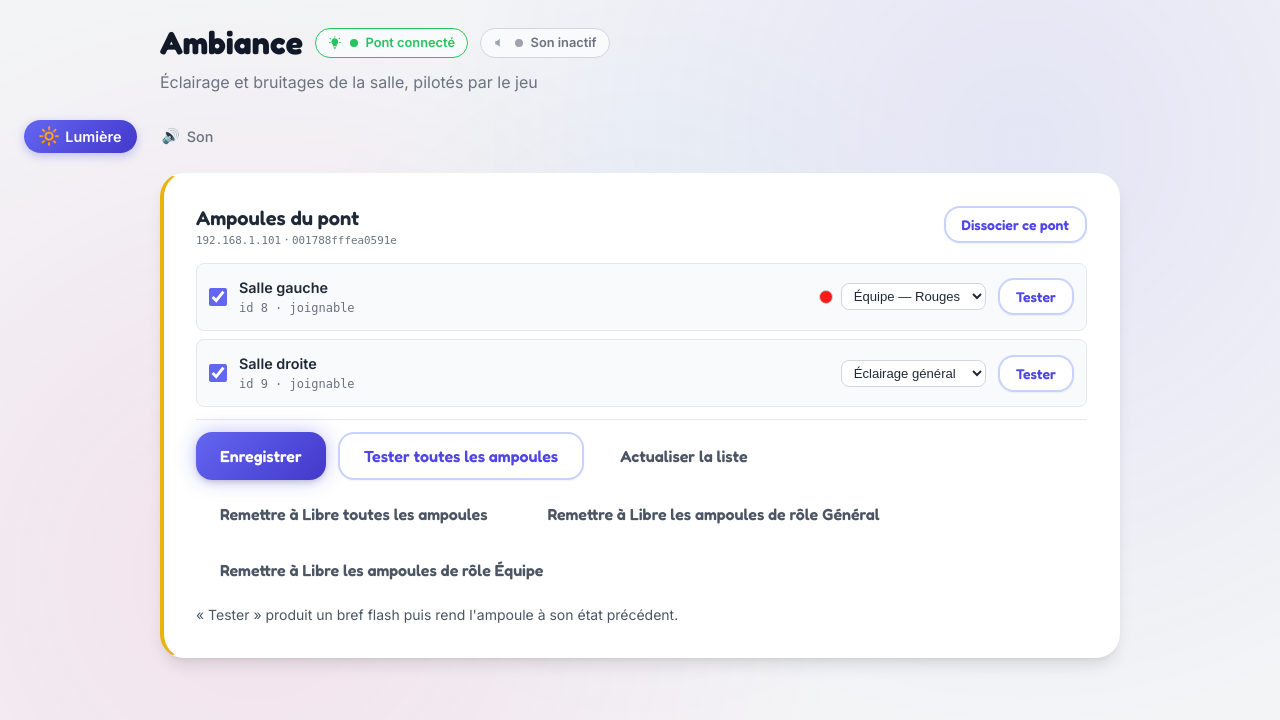
Test case: AmbiancePage — point 3 : 3 boutons « Remettre à Libre » à portées disjointes › « Équipe » confirmé : retire UNIQUEMENT l'ampoule d'équipe (devient libre), l'ampoule générale garde EXACTEMENT son rôle
The image size is (1280, 720).
Expected: the text "Salle gauche" is shown, [239,279,328,296]
Click the button "Remettre à Libre les ampoules de rôle Équipe" at (382, 570), box [196,548,567,592]
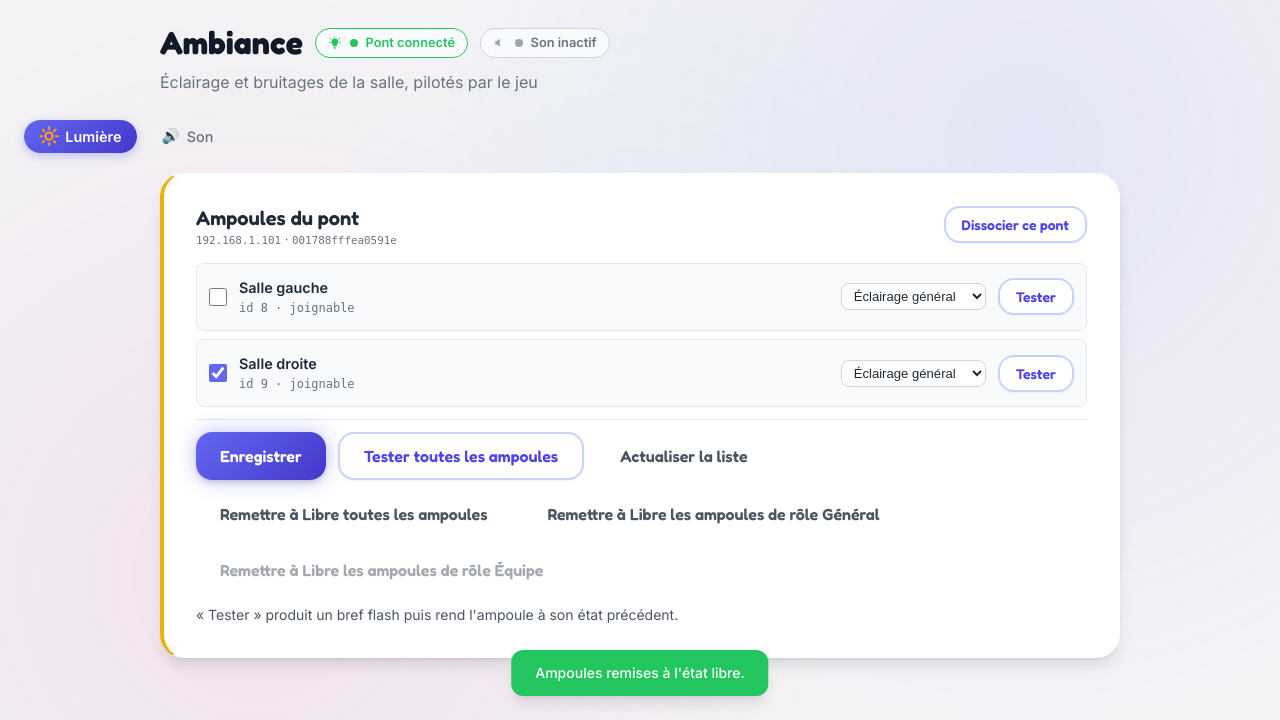
Expected: the text "Ampoules remises à l'état libre." is shown, [511,650,769,696]
